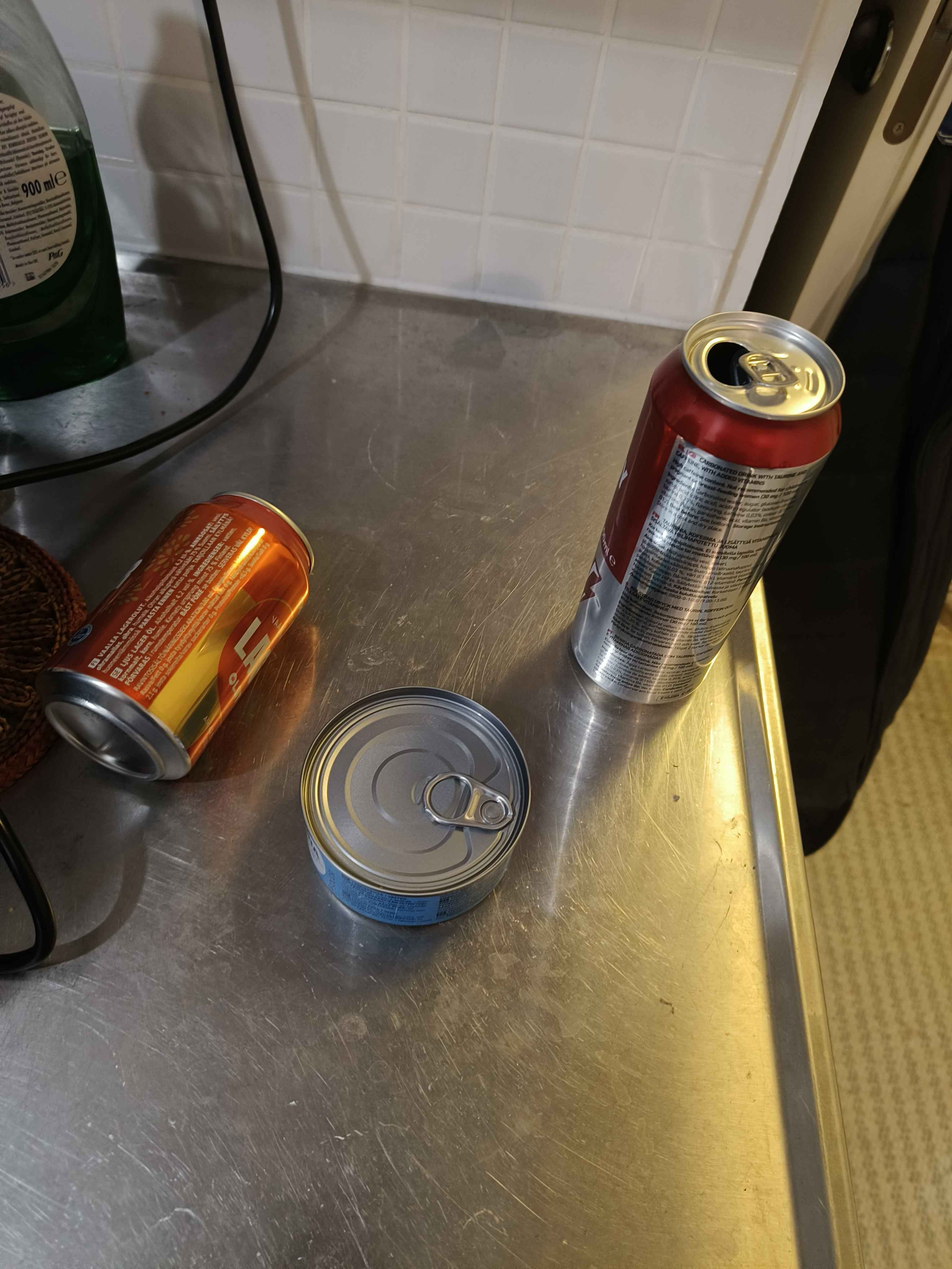Konservburk: (299, 685, 532, 927)
Pantburk: (570, 311, 847, 705), (37, 491, 315, 781)
